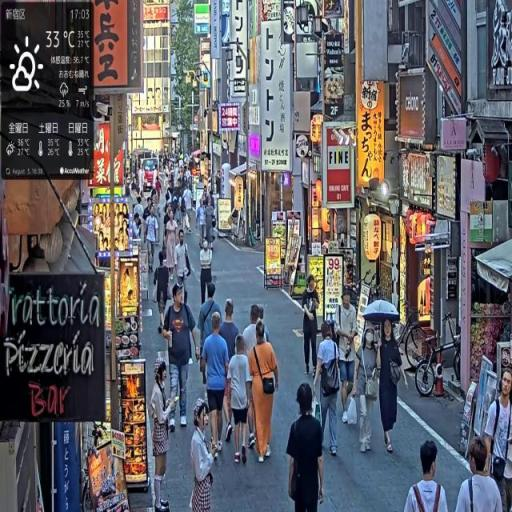person: (161, 283, 200, 432), (285, 382, 326, 512), (200, 311, 232, 461), (248, 321, 280, 464), (483, 367, 512, 512), (149, 358, 176, 512), (313, 325, 343, 460), (226, 331, 254, 469), (377, 317, 405, 455), (353, 324, 381, 458), (456, 437, 505, 512), (190, 399, 220, 512), (405, 441, 452, 512), (336, 287, 360, 424), (302, 276, 322, 379), (155, 248, 172, 336), (175, 230, 193, 303), (200, 237, 217, 308)
